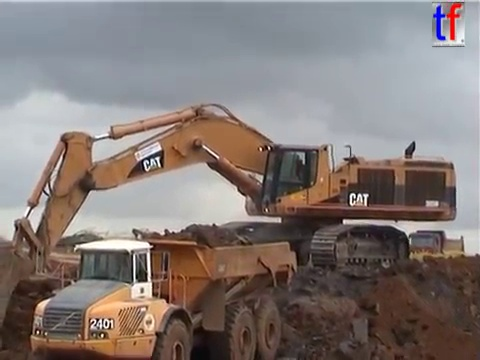excavator: (1, 99, 460, 331)
truck: (26, 235, 299, 360), (405, 228, 467, 265)
